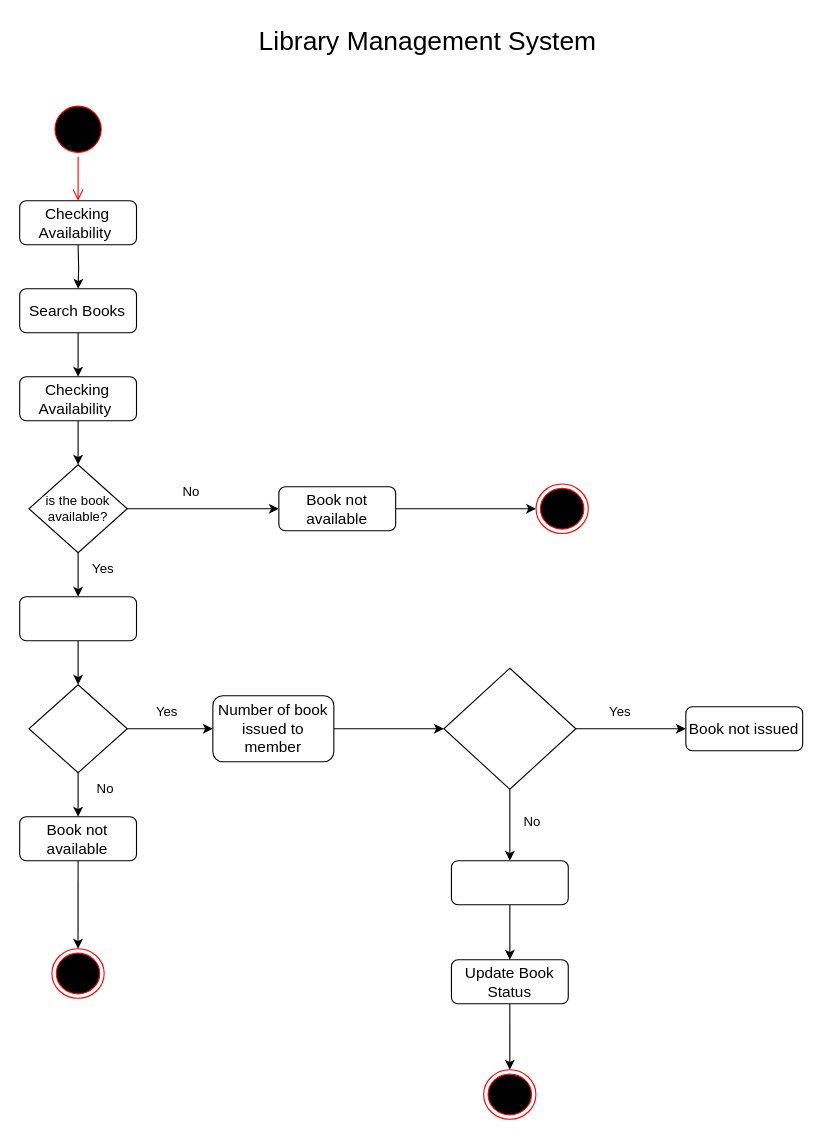
The diagram is 822 pixels wide and 1139 high, and some of its shapes have lost their labels. Here are the shapes that lost their labels. From the top down, the box of each, then its label:
(19, 596, 137, 641): Validate Number
(28, 684, 127, 773): Valid or not?
(443, 667, 576, 789): Maximum quota exceeded or not?
(450, 860, 568, 905): Issue Book
